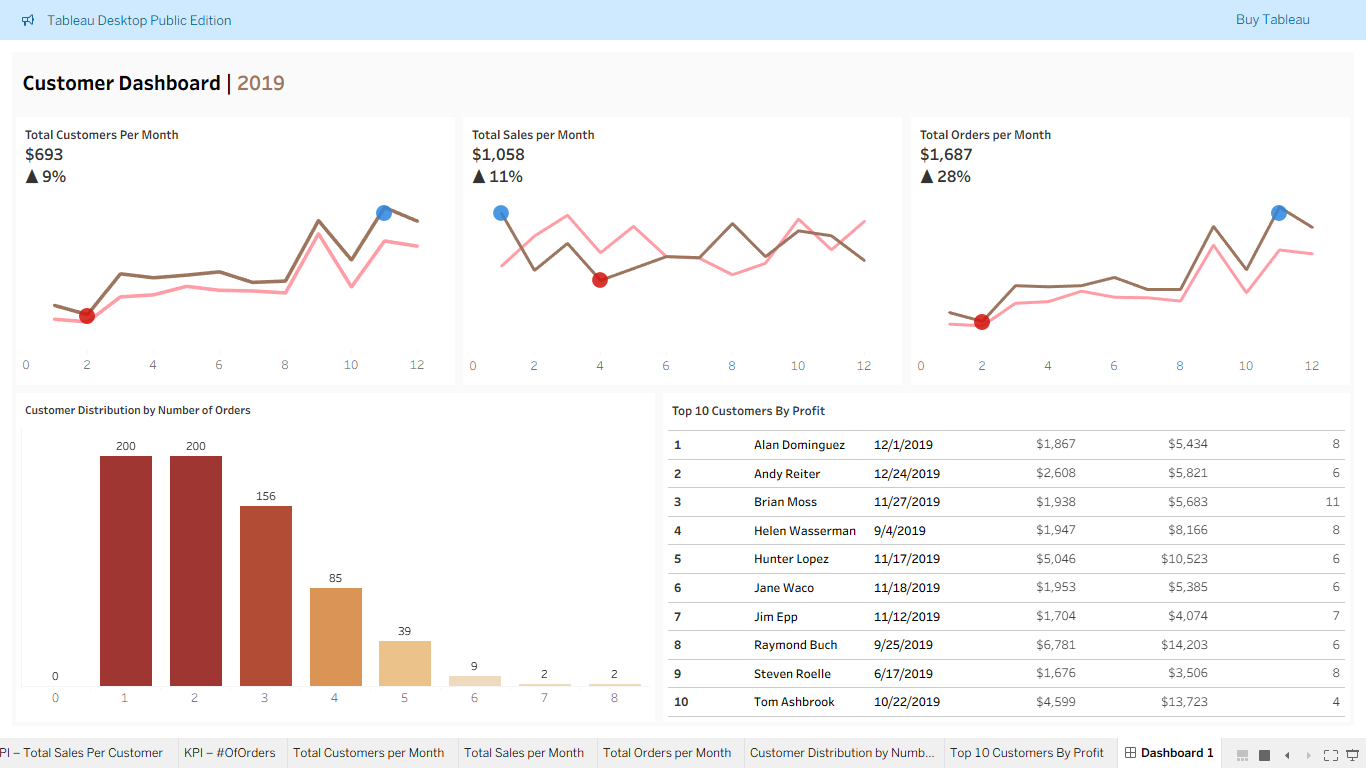

The dashboard page shown, as its layout file describes it:
{"tool":"tableau","page":{"name":"Dashboard 1","canvas":[1000,1000],"units":"permille","ordinal":0},"visuals":[{"type":"text","box":[10.4,21.7,979.1,86.6]},{"type":"worksheet","title":"Total Customers per Month","mark":"Automatic","rows":["Calculation_761671352117182464"],"cols":["Order Date"],"box":[10.4,108.3,326.4,391.4]},{"type":"worksheet","title":"Total Sales per Month","mark":"Automatic","rows":["Calculation_761671352136863751"],"cols":["Order Date"],"box":[336.8,108.3,326.4,391.4]},{"type":"worksheet","title":"Total Orders per Month","mark":"Automatic","rows":["Calculation_761671352140673033"],"cols":["Order Date"],"box":[663.2,108.3,326.4,391.4]},{"type":"worksheet","title":"Customer Distribution by Number of Orders","mark":"Automatic","rows":["Calculation_1035827979243810823"],"cols":["Calculation_1045116653750861824"],"box":[10.4,499.7,472.2,478.5]},{"type":"worksheet","title":"Top 10 Customers By Profit","mark":"Automatic","rows":["Calculation_1045116653870366736","Customer Name","Order Date"],"box":[482.6,499.7,506.9,478.5]}]}

Visuals, with their boxes on the dashboard's canvas, which has no fixed pixel size, in thousandths of its width and height (x1, y1, x2, y2). These are canvas units, not pixel positions in the 1366x768 screenshot, which may show the page scaled, cropped or inside an application window:
text: x1=10 y1=22 x2=990 y2=108
"Total Customers per Month" worksheet: x1=10 y1=108 x2=337 y2=500
"Total Sales per Month" worksheet: x1=337 y1=108 x2=663 y2=500
"Total Orders per Month" worksheet: x1=663 y1=108 x2=990 y2=500
"Customer Distribution by Number of Orders" worksheet: x1=10 y1=500 x2=483 y2=978
"Top 10 Customers By Profit" worksheet: x1=483 y1=500 x2=990 y2=978
